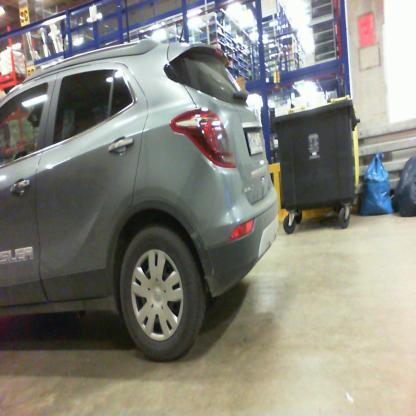pallet: (1, 69, 35, 83)
